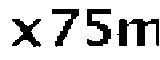5: (87, 5, 112, 48)
7: (48, 5, 79, 53)
m: (116, 14, 160, 50)
x: (9, 17, 43, 49)
